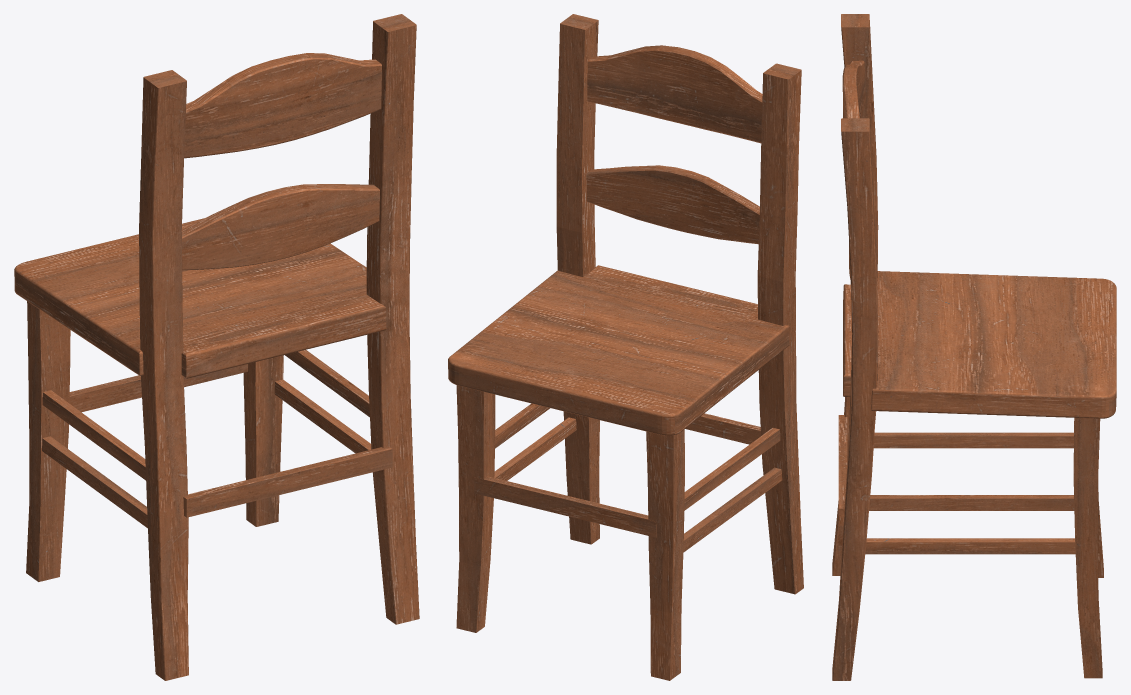
File: chair5.fbx
3 views of the same model, side by side, from view 1: azimuth 30°, elevation 25°; view 2: azimuth 150°, elevation 25°; view 3: azimuth 270°, elevation 25° (orthographic). The views are drawn at different scales.
Parts seen in each view (by area): view 1: Cube.004; view 2: Cube.004; view 3: Cube.004.
Part boxes in pixels (x1,y1,x2,y2): Cube.004: (14,14,419,680); Cube.004: (448,14,803,680); Cube.004: (832,14,1116,680).
Size of the model in its own units: 157 by 338 by 159.
